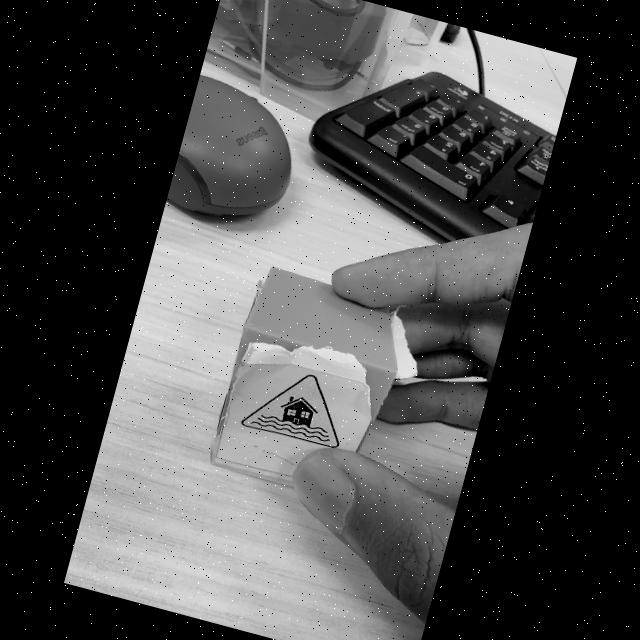Tsunami: (241, 375, 338, 447)
